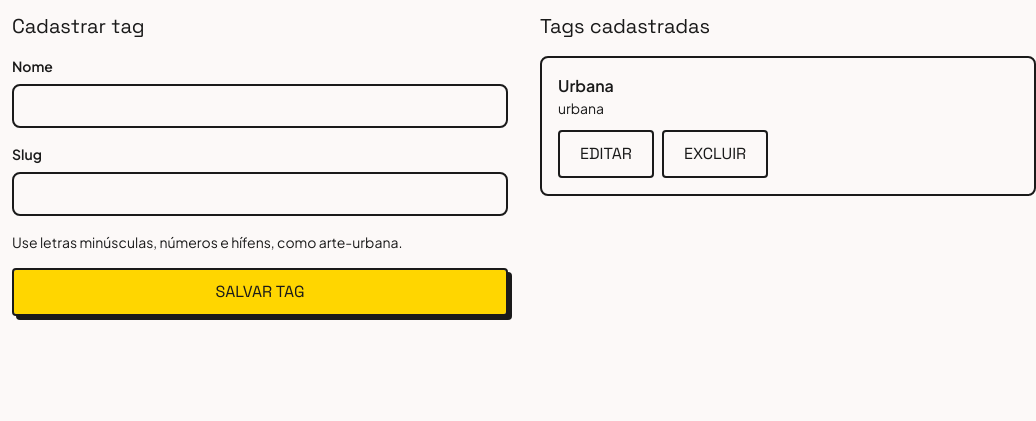
it: RF28 administra tags com formulário rotulado, feedback e confirmação de exclusão
Type "Pintura" into the field labelled "Nome" at x=260, y=106, box [12,84,508,128]
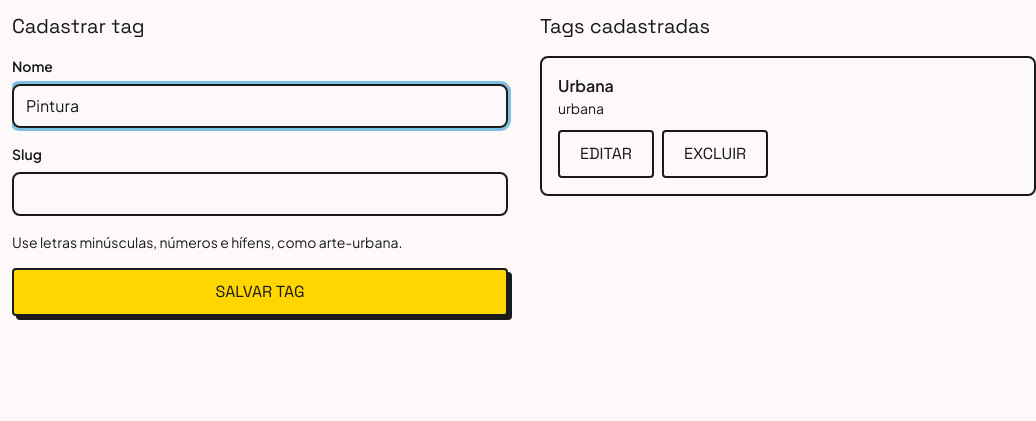
Type "pintura" into the field labelled "Slug" at x=260, y=194, box [12,172,508,216]
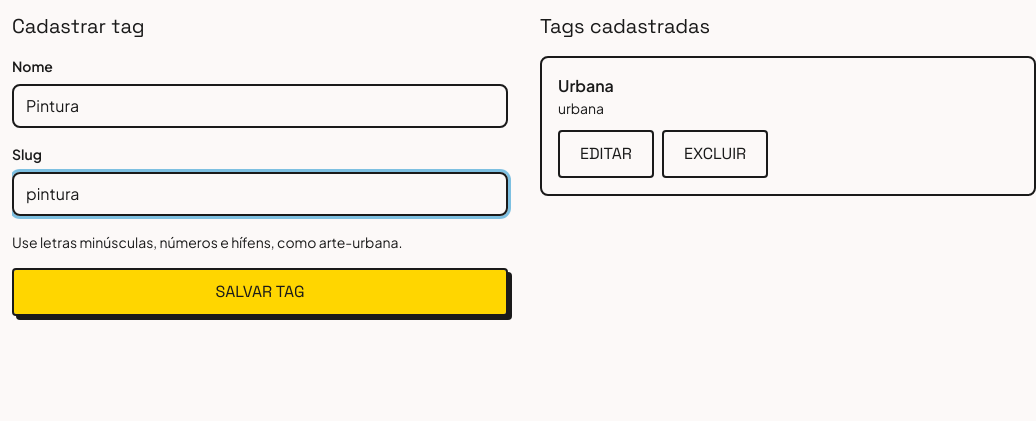
Click the button "Salvar tag" at x=260, y=292, box [12,268,508,316]
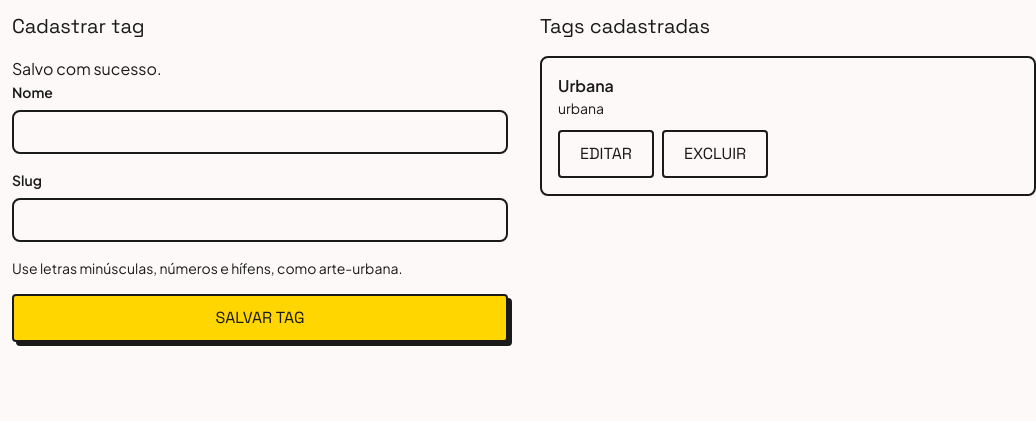
Now the message shows "Salvo", box [12,58,162,79]
Click the button with aria-label "Editar Urbana" at x=606, y=154, box [558,130,654,178]
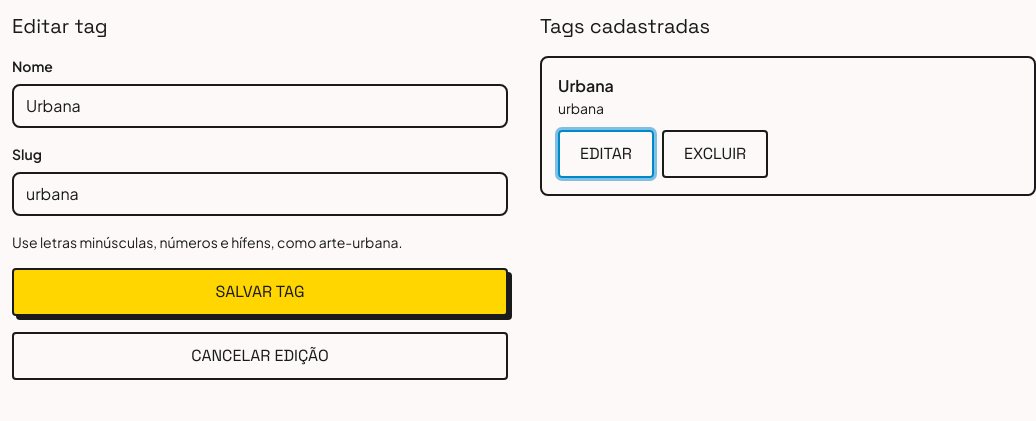
Now the field labelled "Nome" holds "Urbana", box [12,84,508,128]
Click the button with aria-label "Excluir Urbana" at x=715, y=154, box [662,130,768,178]
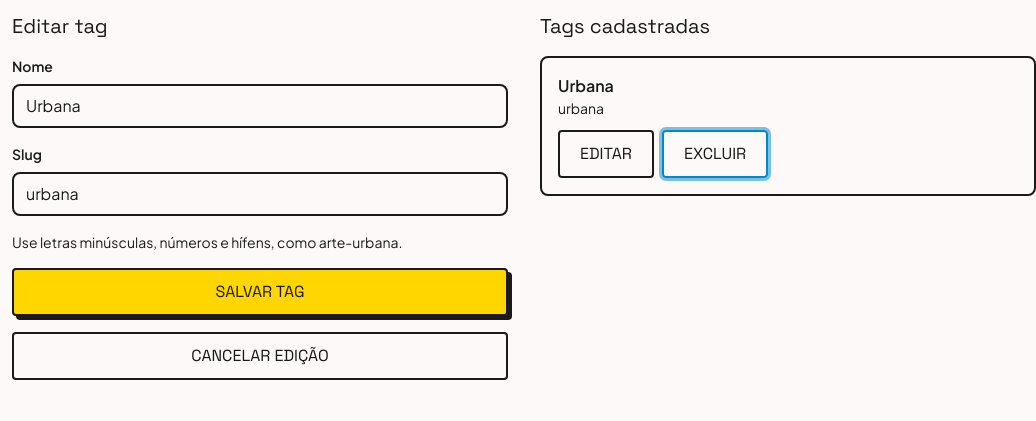
Click the button with aria-label "Excluir Urbana" at x=715, y=154, box [662,130,768,178]
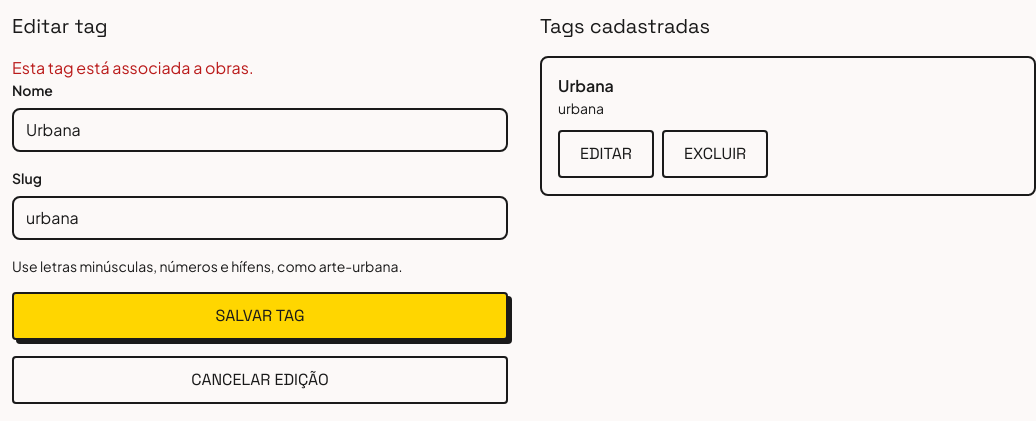
Now the message shows "associada a obras", box [12,57,254,78]
